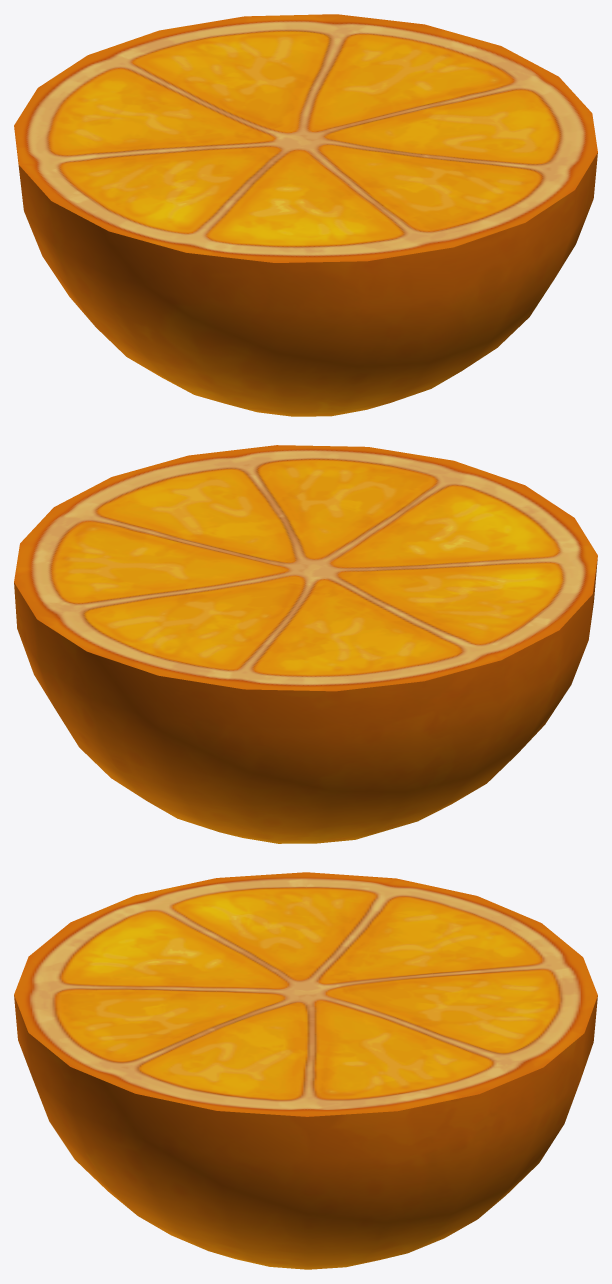
The model's file is SM_OrangeCutTop.fbx.
3 views of the same model, one above another, from view 1: azimuth 30°, elevation 25°; view 2: azimuth 150°, elevation 25°; view 3: azimuth 270°, elevation 25° (orthographic).
Visible parts, largest first — view 1: SM_OrangeCutTop; view 2: SM_OrangeCutTop; view 3: SM_OrangeCutTop.
Boxes of the visible parts, left/top/right/bottom form: SM_OrangeCutTop: left=14, top=14, right=597, bottom=416; SM_OrangeCutTop: left=14, top=445, right=597, bottom=843; SM_OrangeCutTop: left=14, top=872, right=597, bottom=1269.
Size of the model in its own units: 17.5 by 8.22 by 17.65.
1 material, 1 textured.
